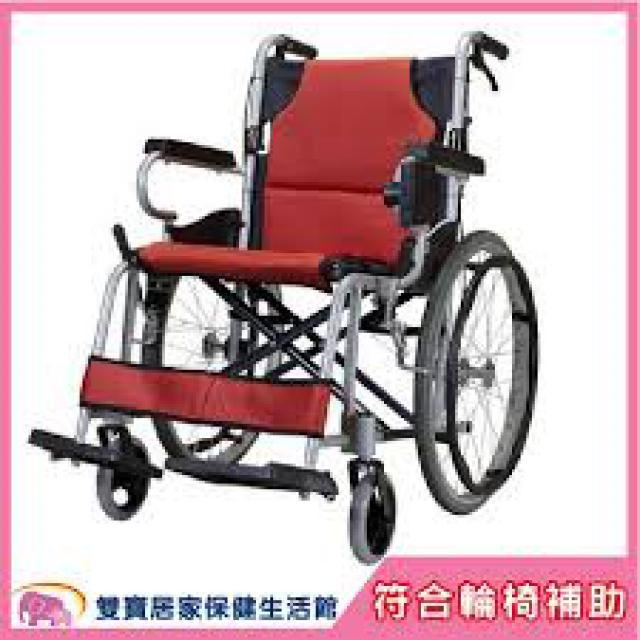wheelchair: (20, 25, 558, 558)
